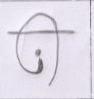i_matra: (36, 11, 64, 71)
